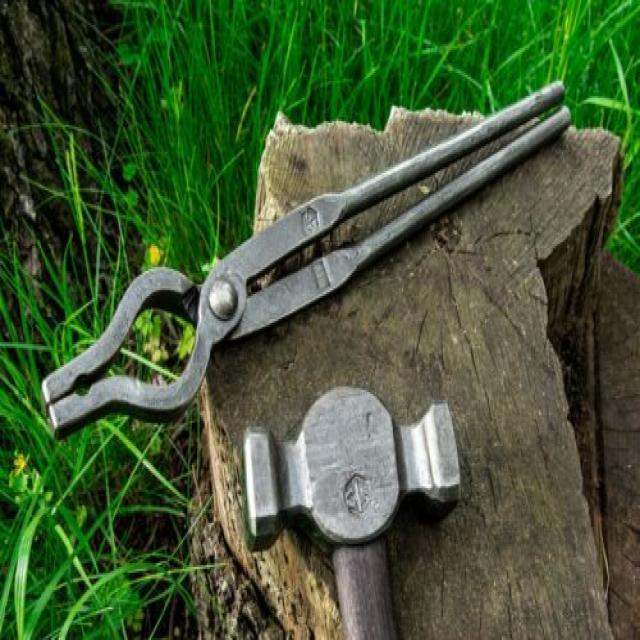hammer: (236, 373, 468, 640)
